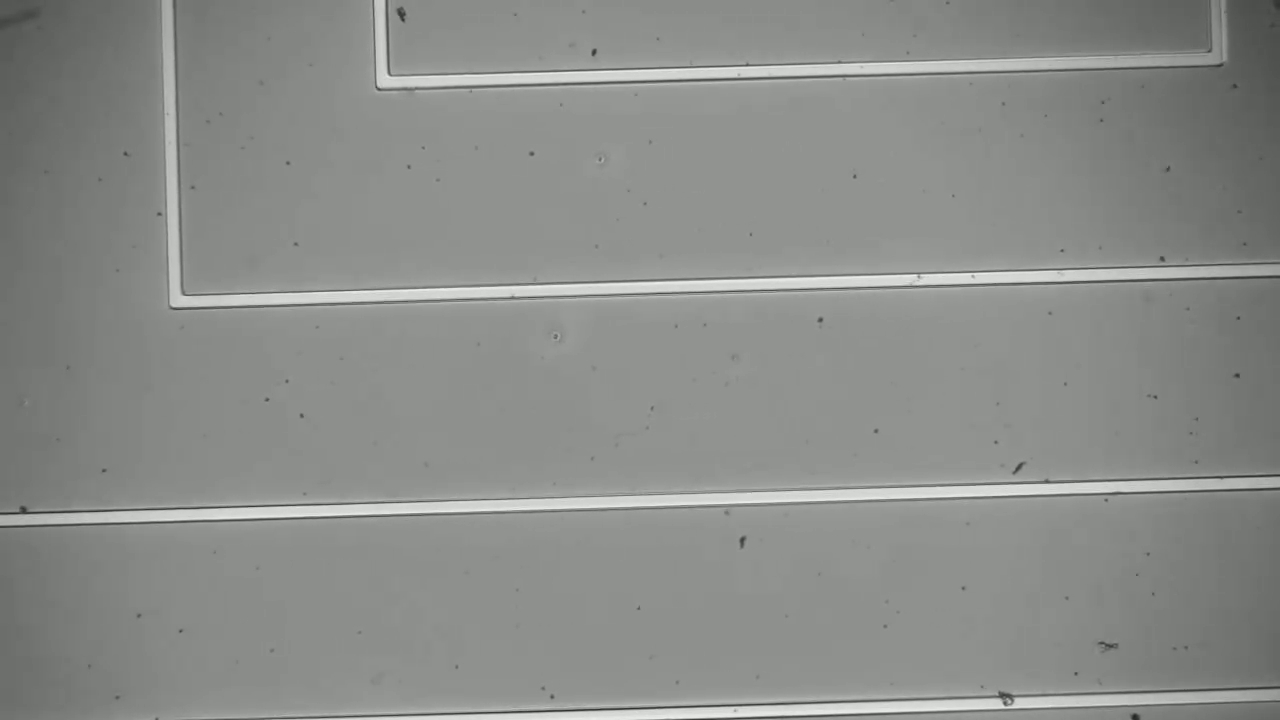stains_enbedded: (990, 682, 1023, 714)
